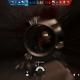Character: (32, 44, 47, 53)
